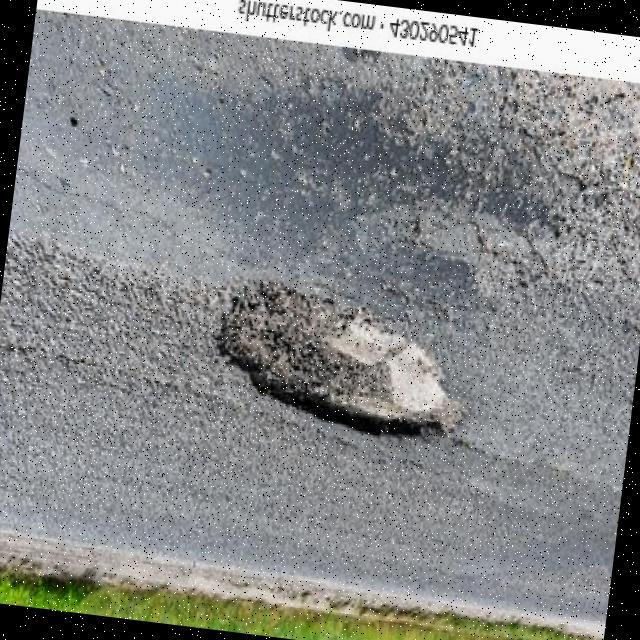Pothole: (217, 279, 470, 436)
